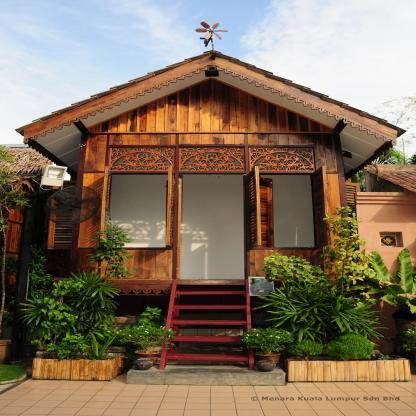Blind: (248, 166, 274, 247), (312, 166, 331, 247), (100, 167, 111, 247), (166, 166, 175, 248)
Building Outline: (14, 49, 408, 347)
Dont: (10, 164, 178, 371), (238, 205, 374, 372)
Door: (176, 173, 246, 280)
Facade: (82, 120, 338, 285)
Floor Slab: (69, 280, 349, 285)
Molding: (22, 55, 398, 146), (108, 147, 315, 172)
Raised Floor: (69, 130, 349, 280)
Roof: (14, 49, 408, 138)
Window: (103, 173, 175, 248), (249, 173, 320, 248)
